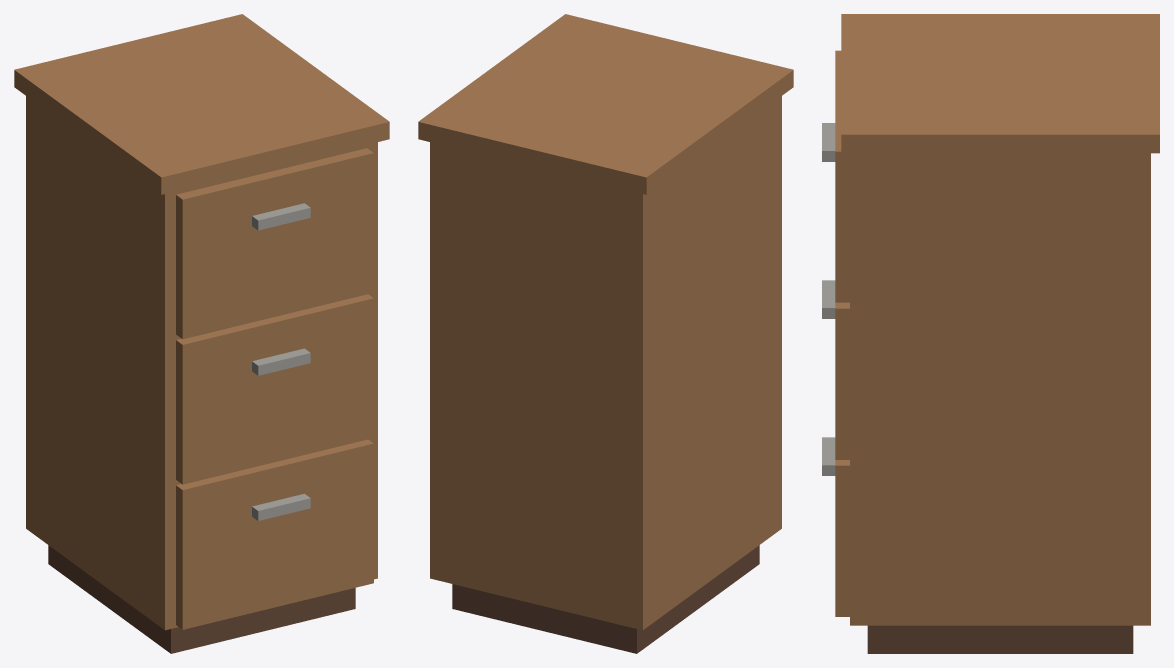
Rendered from filing_cabinet.glb.
3 views of the same model, side by side, from view 1: azimuth 30°, elevation 25°; view 2: azimuth 150°, elevation 25°; view 3: azimuth 270°, elevation 25° (orthographic). The views are drawn at different scales.
Visible parts, largest first — view 1: Cabinet, Top, Drawer.002, Drawer, Drawer.001, Base, Pull.003, Pull.001, Pull.002; view 2: Cabinet, Top, Base; view 3: Cabinet, Top, Base, Drawer.002, Drawer.001, Drawer, Pull.001, Pull.002, Pull.003.
Boxes of the visible parts, <box> form: Cabinet: <box>26,96,377,630</box>; Top: <box>14,14,389,194</box>; Drawer.002: <box>176,148,373,339</box>; Drawer: <box>176,439,373,629</box>; Drawer.001: <box>176,294,373,484</box>; Base: <box>48,545,355,653</box>; Pull.003: <box>252,203,310,230</box>; Pull.001: <box>252,493,310,520</box>; Pull.002: <box>252,348,310,375</box>; Cabinet: <box>430,96,781,630</box>; Top: <box>418,14,793,194</box>; Base: <box>452,545,759,653</box>; Cabinet: <box>850,153,1150,625</box>; Top: <box>841,14,1159,153</box>; Base: <box>867,625,1133,653</box>; Drawer.002: <box>835,50,849,302</box>; Drawer.001: <box>835,302,849,459</box>; Drawer: <box>835,460,849,616</box>; Pull.001: <box>822,437,835,475</box>; Pull.002: <box>822,280,835,318</box>; Pull.003: <box>822,123,835,161</box>.
Bounding box in the file's own units: 0.521 × 1.07 × 0.617.
